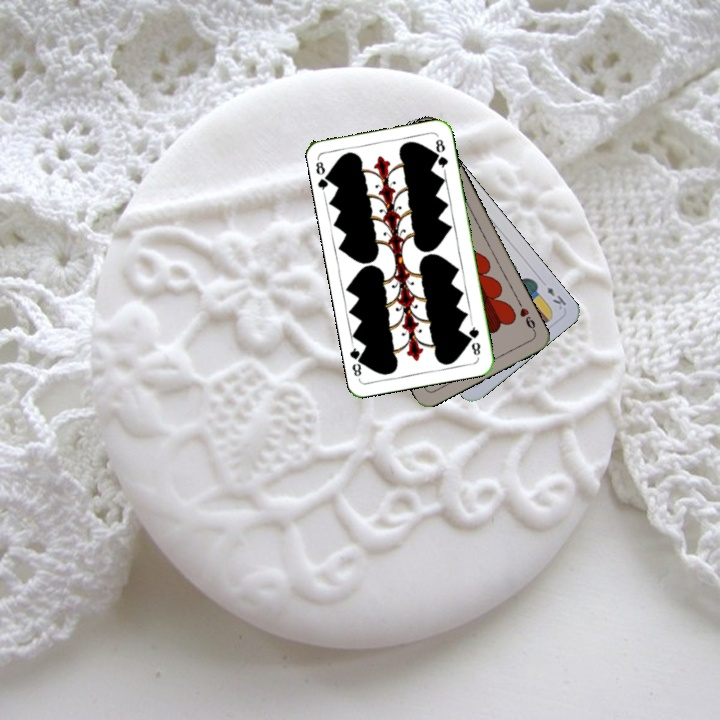EK: (543, 283, 569, 312)
G8: (312, 156, 334, 196), (465, 319, 483, 358)
H9: (514, 297, 538, 335)
